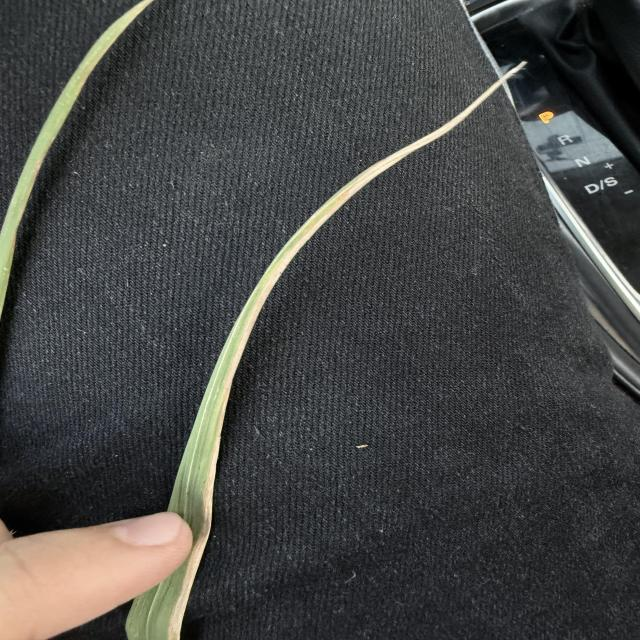Chay bia la: (169, 60, 527, 640)
